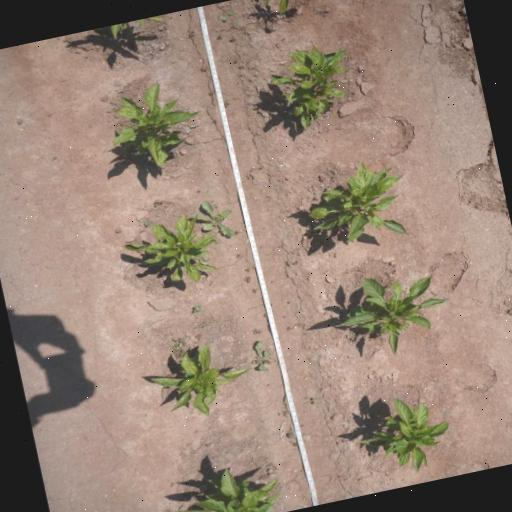plant: (328, 258, 462, 366), (98, 71, 213, 179), (348, 385, 458, 484), (258, 35, 362, 137), (307, 161, 408, 245), (147, 343, 251, 418), (163, 456, 291, 512), (122, 211, 217, 286), (257, 0, 316, 19)
weed: (191, 199, 234, 239), (246, 338, 274, 376), (167, 334, 187, 358), (218, 10, 237, 23), (190, 318, 209, 330), (151, 196, 164, 208), (191, 303, 203, 314), (250, 326, 263, 336), (242, 274, 252, 285), (310, 396, 319, 405), (194, 332, 203, 341), (142, 218, 150, 228), (250, 286, 259, 294), (242, 266, 251, 273), (235, 252, 242, 258)
